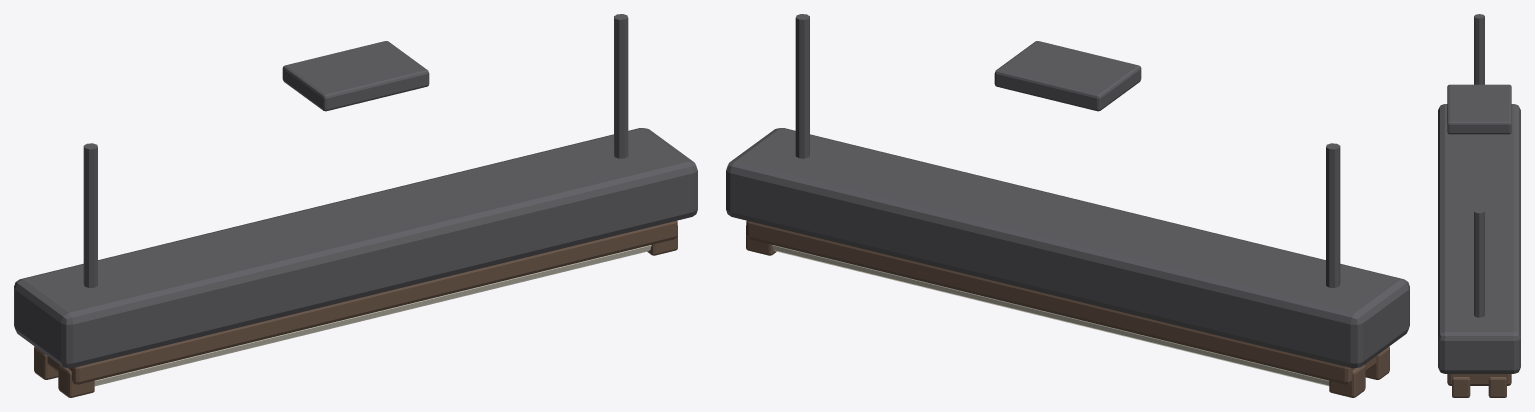
The picture shows the model from 3 angles, left to right: view 1: azimuth 30°, elevation 25°; view 2: azimuth 150°, elevation 25°; view 3: azimuth 270°, elevation 25°; orthographic projection. The views are drawn at different scales.
Parts seen in each view (by area): view 1: fluoroTube; view 2: fluoroTube; view 3: fluoroTube.
Boxes of the visible parts, x1,y1,x2,y2 form: fluoroTube: (14, 14, 697, 397); fluoroTube: (726, 14, 1409, 397); fluoroTube: (1438, 14, 1520, 397).
Size of the model in its own units: 1.2 by 0.44 by 0.18.
